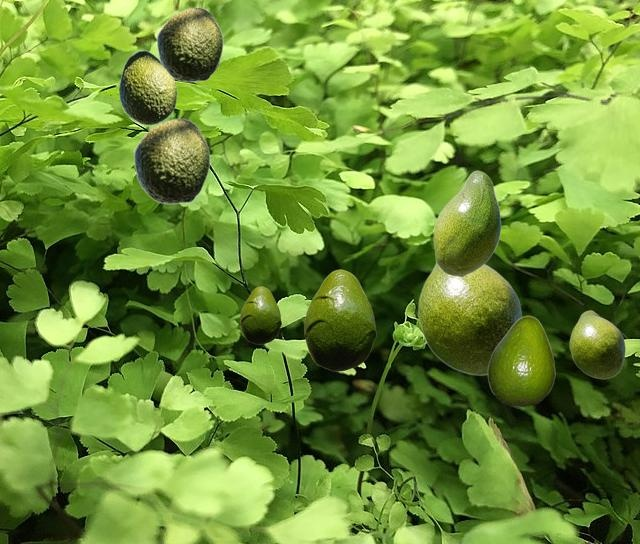avocado: (417, 263, 521, 375), (304, 269, 375, 370), (433, 170, 500, 276), (133, 118, 209, 203), (487, 315, 554, 405), (156, 7, 222, 81), (118, 50, 176, 124), (569, 310, 624, 378), (240, 286, 280, 343)
